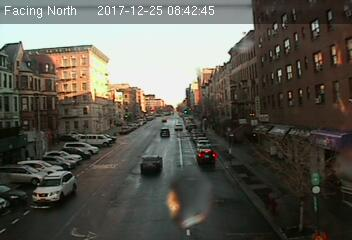car: (33, 168, 76, 205), (137, 154, 163, 173), (196, 149, 216, 165), (160, 127, 170, 136)
